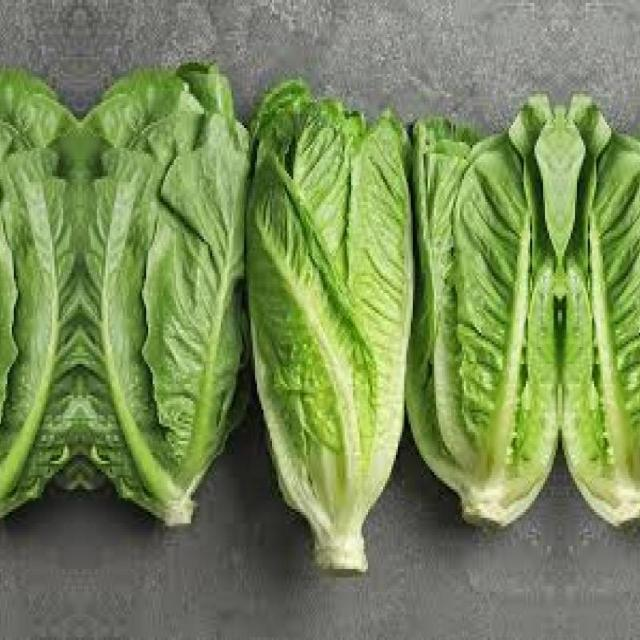healthy: (248, 80, 414, 572), (80, 67, 248, 530), (402, 87, 560, 539), (0, 66, 80, 529), (560, 87, 640, 539)
